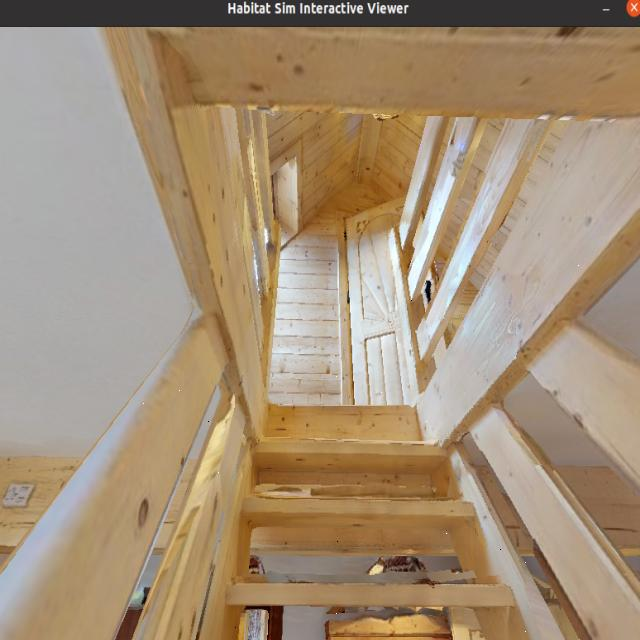stairs: (137, 245, 590, 640)
